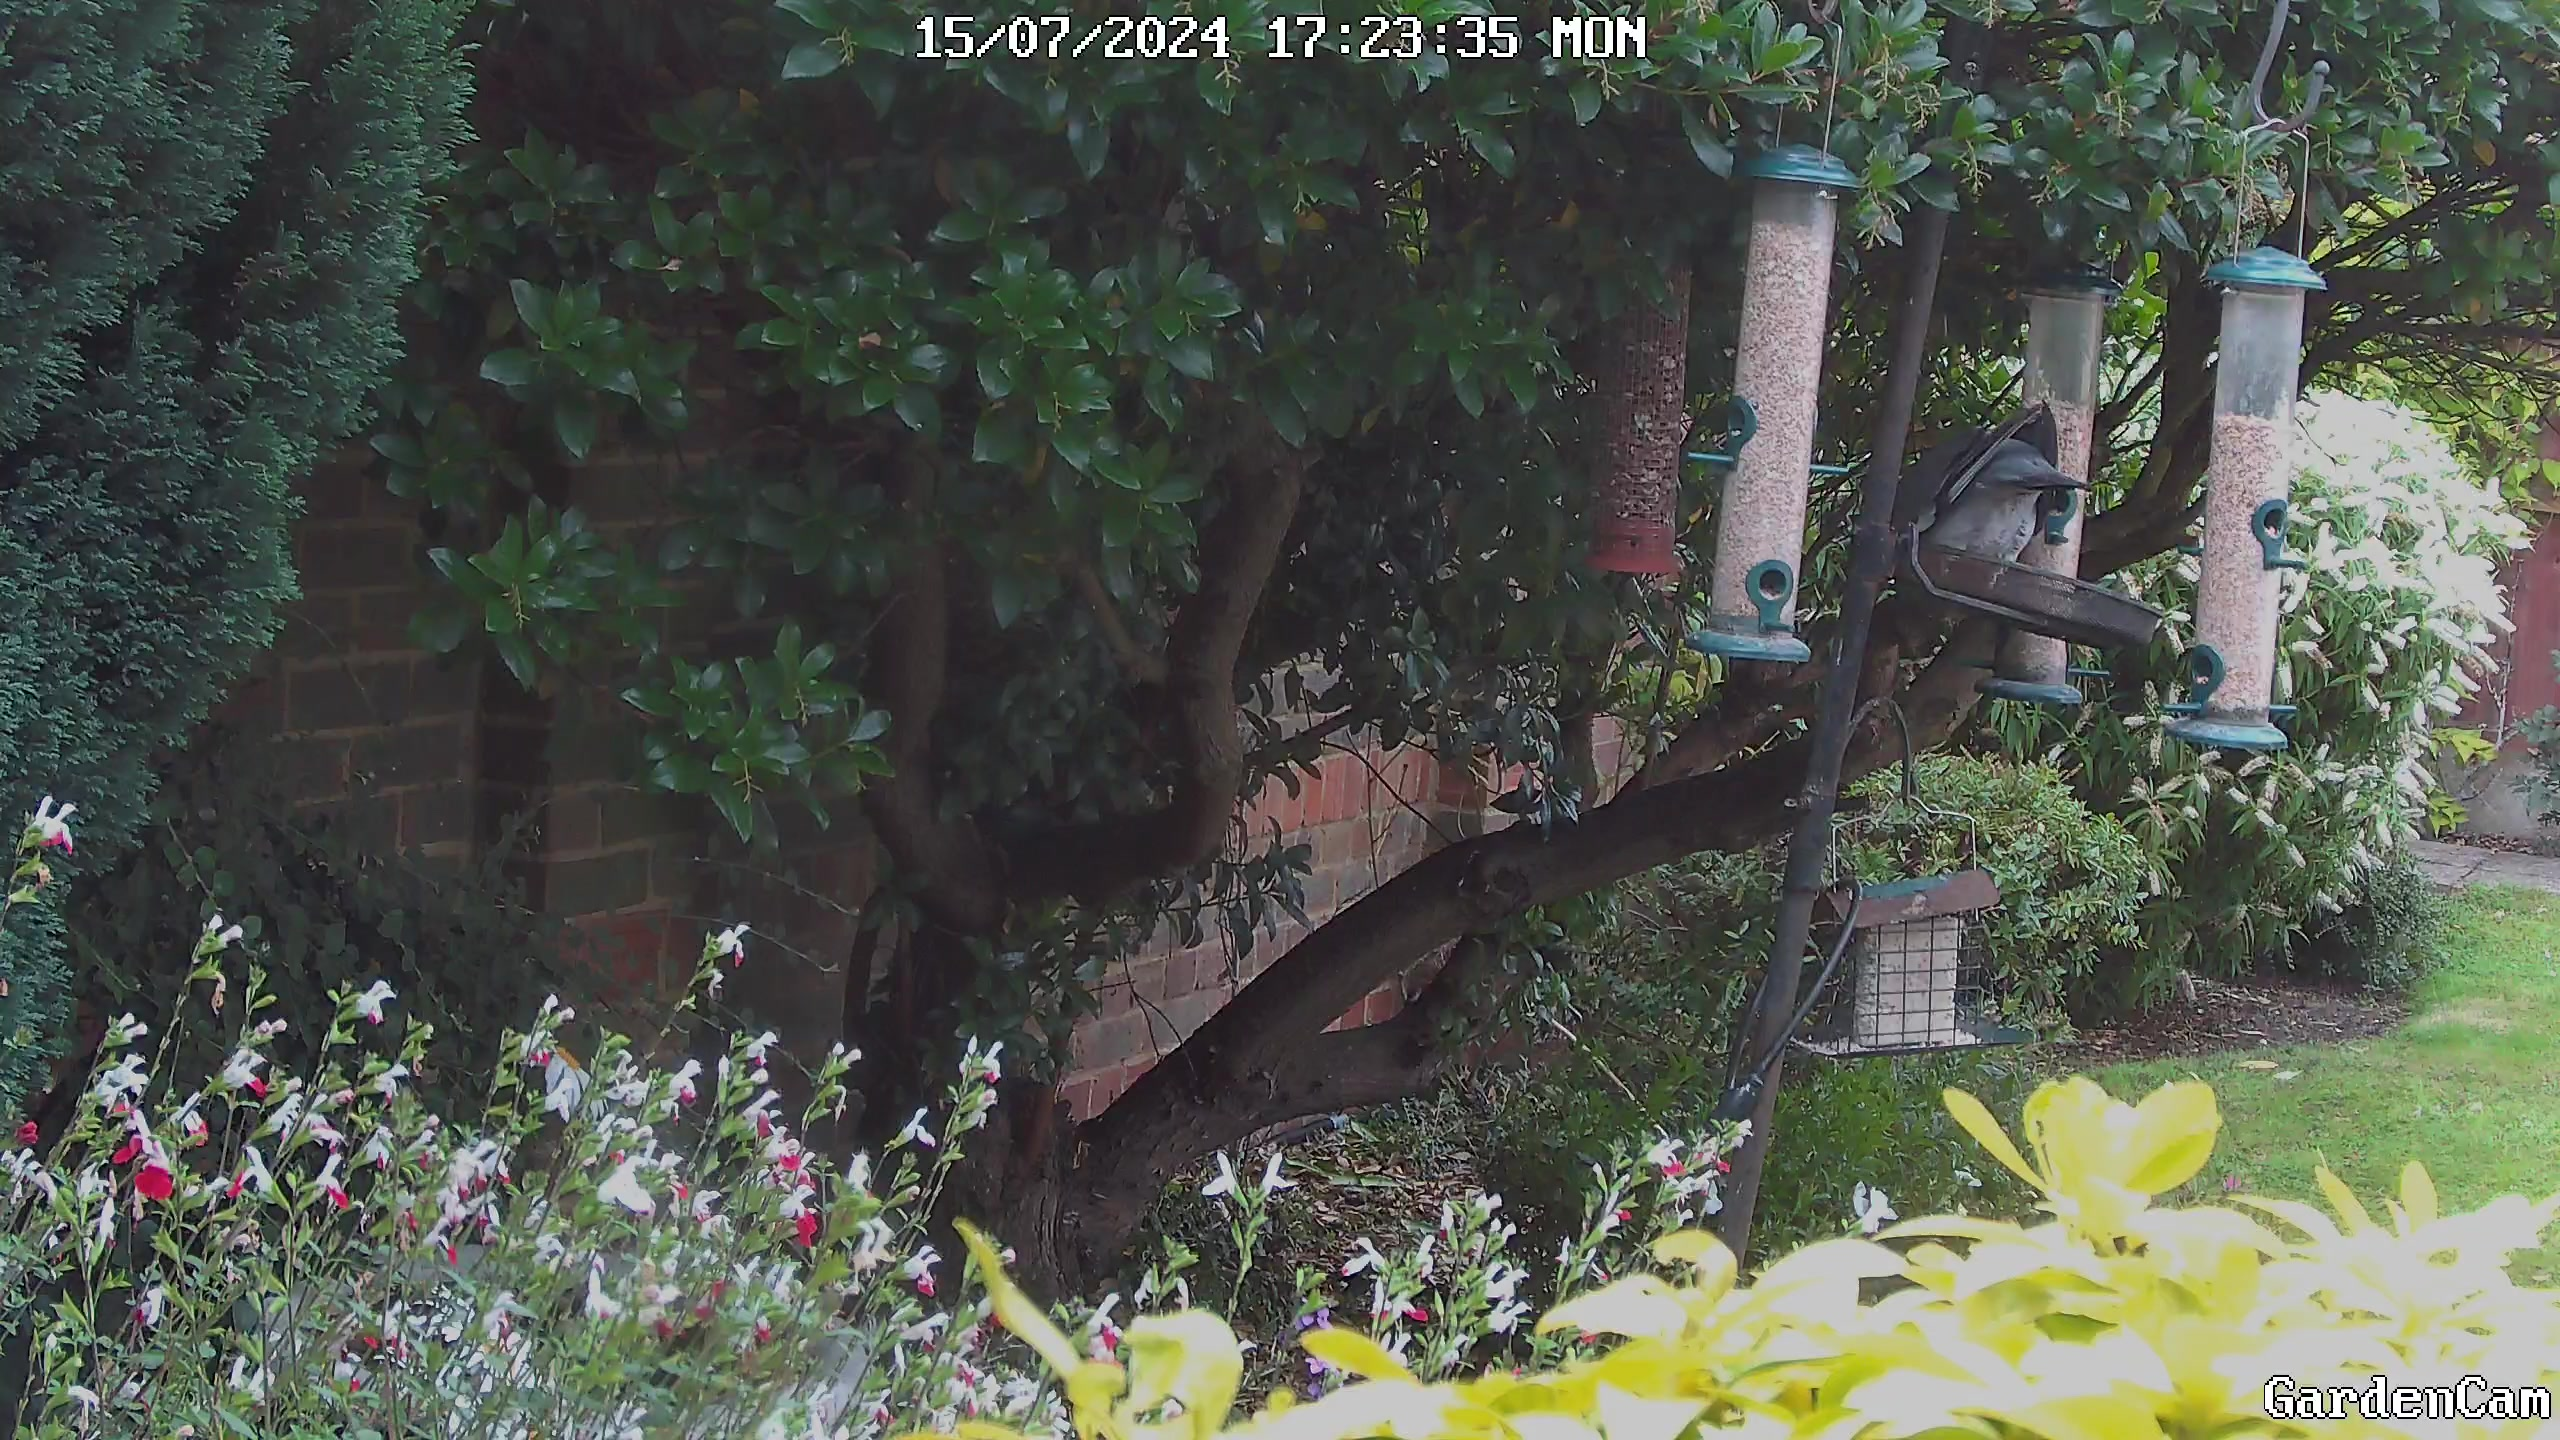Wood_Pigeon: (1869, 396, 2106, 603)
